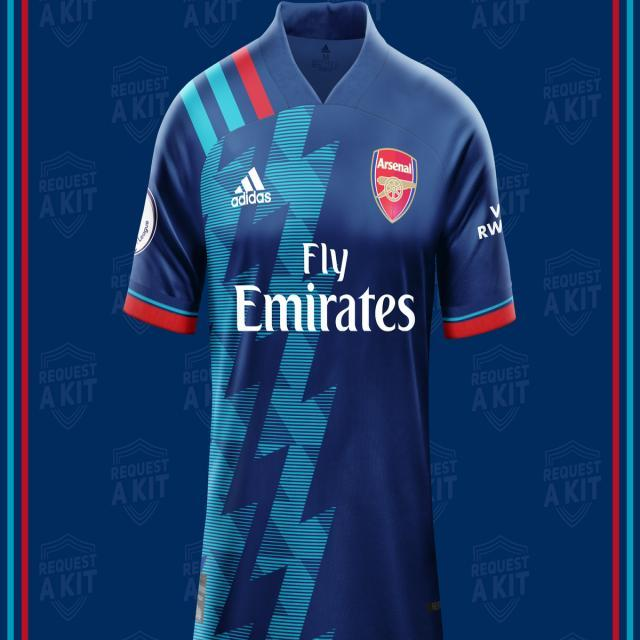Adidas: (226, 167, 275, 208)
Emirates: (234, 282, 416, 334)
